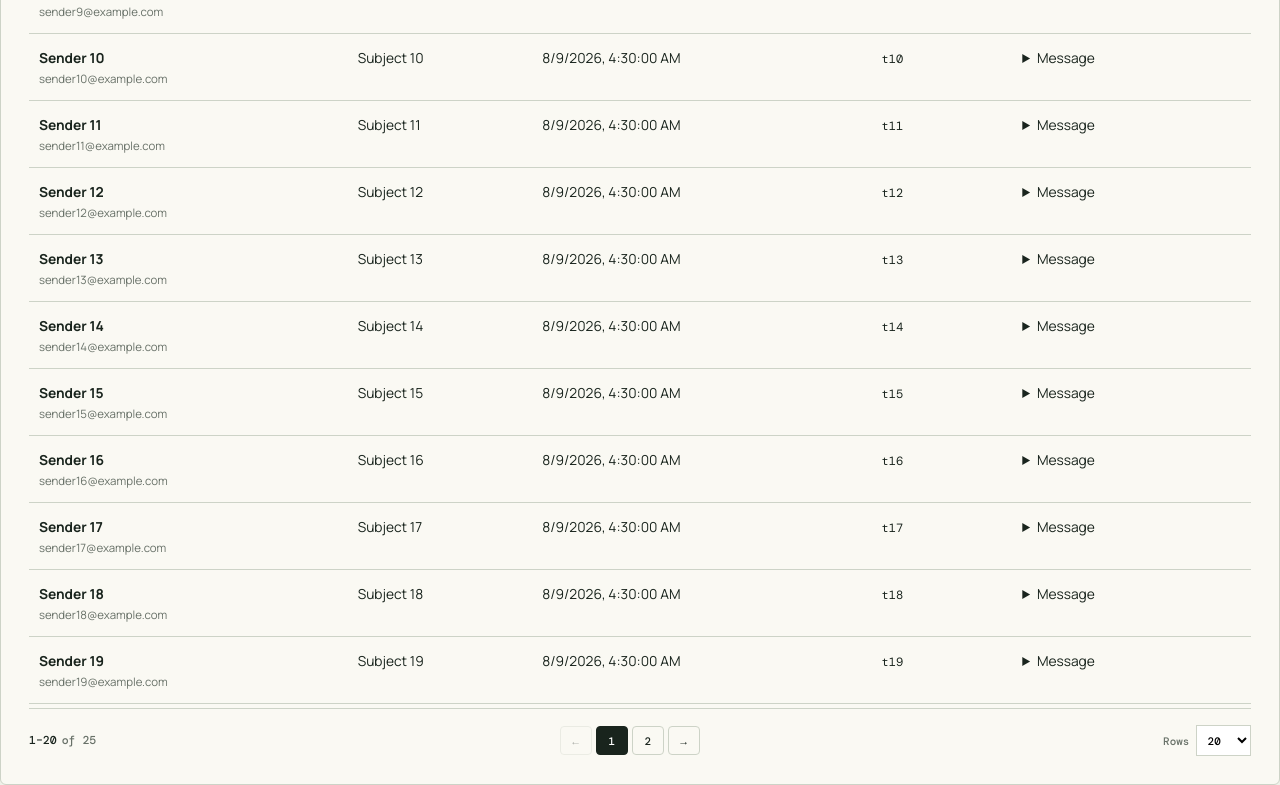
Test: raw preview shows 20 rows per page and supports numbered pages and adjustable size
(page scrolled)
Expected: the text "Sender 20" is not shown
Step 1. Click the button "2" → (648,741), box [632, 726, 664, 755]
(page scrolled)
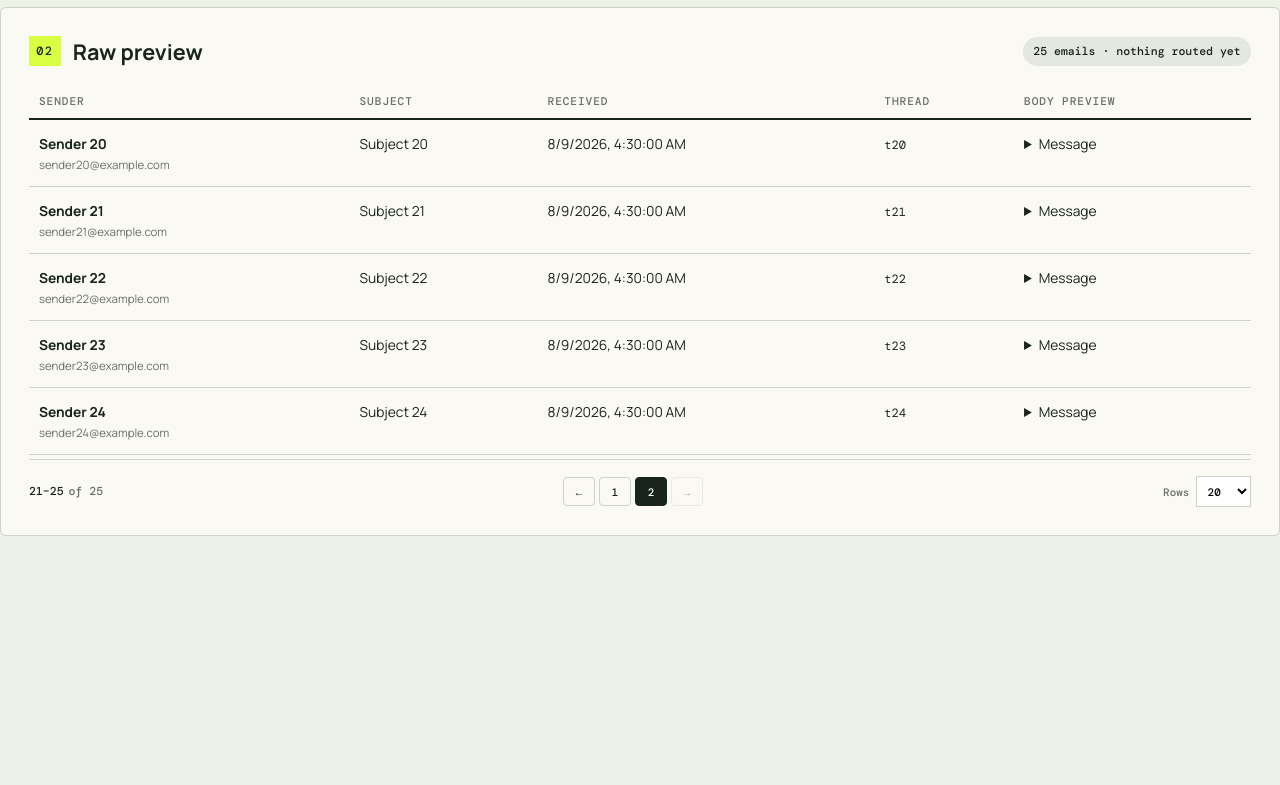
Now the text "Sender 20" is shown, box [39, 134, 107, 153]
Step 2. Select "10" in the dropdown named "Raw emails rows per page" → (1224,492), box [1196, 476, 1251, 507]
(page scrolled)
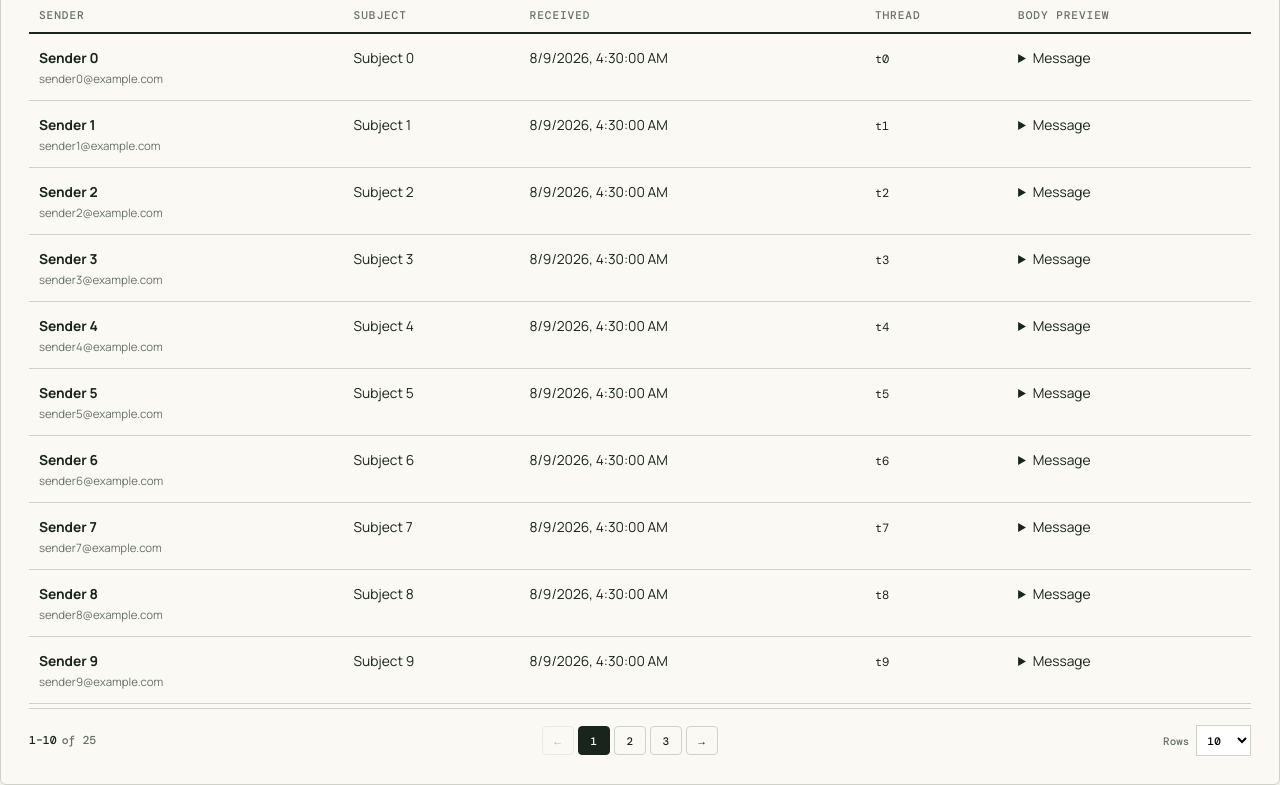
Now the text "1–10" is shown, box [29, 733, 57, 748]
